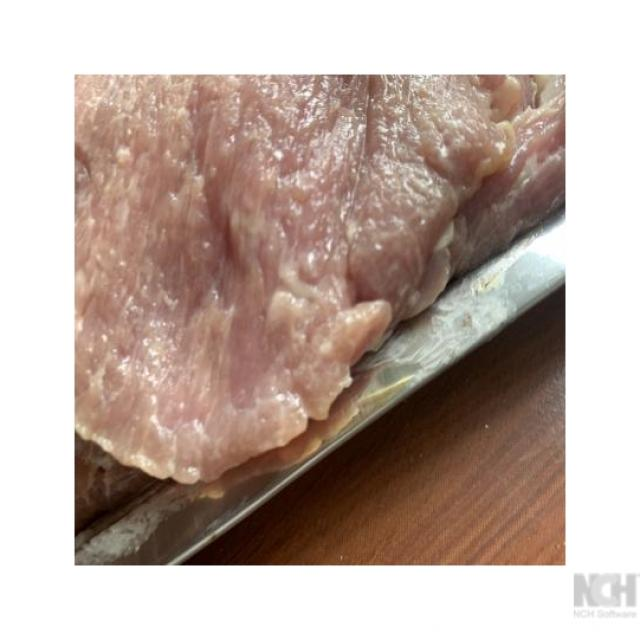rotten meat: (52, 55, 580, 575)
